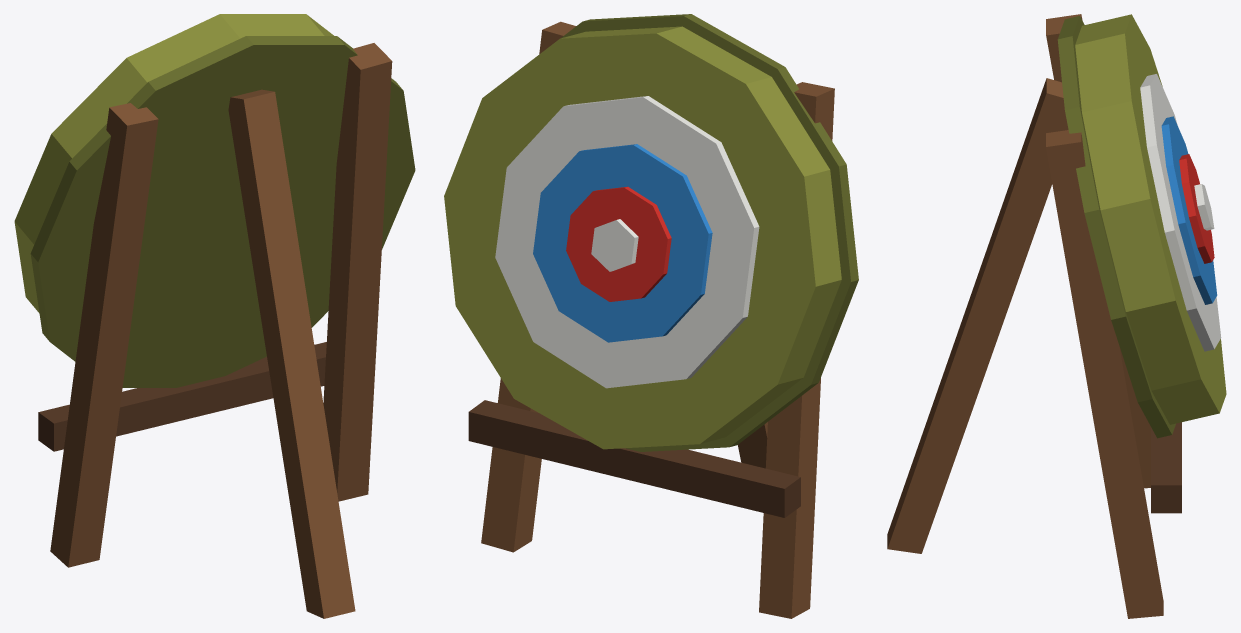
File: vfem2_archery_target.obj
3 views of the same model, side by side, from view 1: azimuth 30°, elevation 25°; view 2: azimuth 150°, elevation 25°; view 3: azimuth 270°, elevation 25° (orthographic). The views are drawn at different scales.
Parts seen in each view (by area): view 1: vfem2_archery_target; view 2: vfem2_archery_target; view 3: vfem2_archery_target.
Boxes of the visible parts, left/top/right/bottom form: vfem2_archery_target: left=14, top=14, right=415, bottom=618; vfem2_archery_target: left=444, top=14, right=858, bottom=618; vfem2_archery_target: left=887, top=14, right=1226, bottom=618.
Bounding box in the file's own units: 0.84 × 1.1 × 0.6605.
